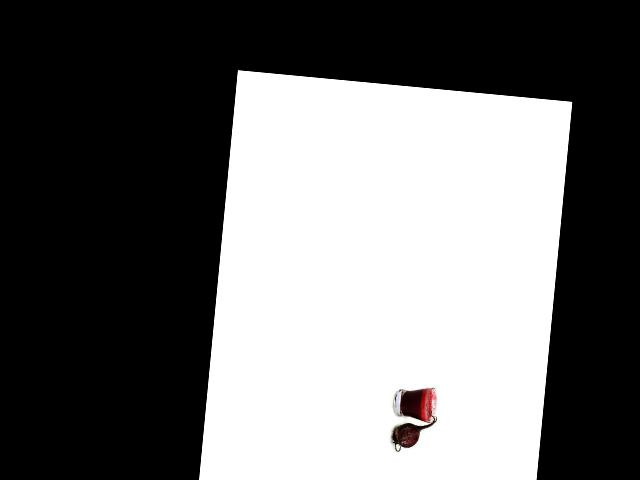beet: (390, 406, 437, 454)
